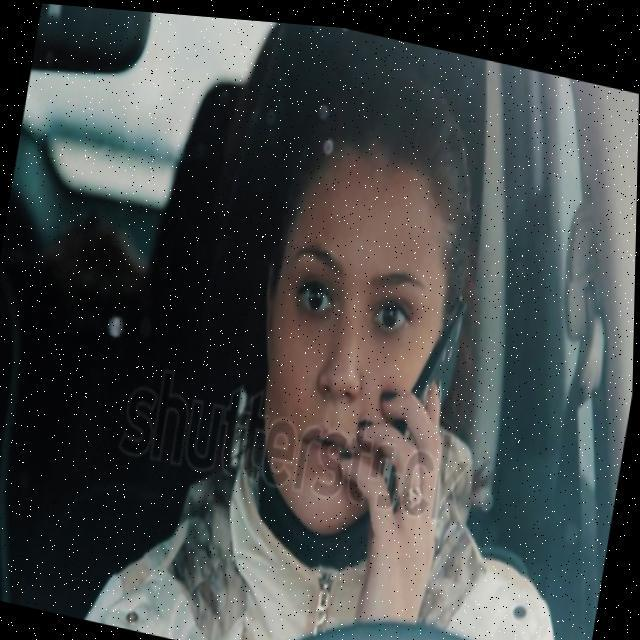PhoneCall: (372, 276, 472, 504)
